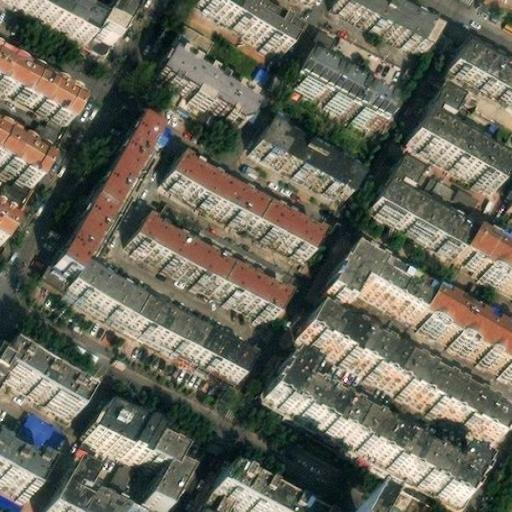building: (265, 353, 484, 508), (299, 306, 506, 443), (68, 267, 247, 380), (52, 114, 157, 277), (128, 218, 284, 319), (166, 158, 316, 257), (405, 90, 509, 188), (366, 162, 467, 258), (291, 58, 397, 136), (156, 46, 254, 128), (328, 246, 436, 318), (248, 119, 353, 192), (421, 290, 512, 371), (334, 0, 435, 59), (199, 0, 300, 55), (0, 61, 77, 130), (443, 43, 512, 107), (0, 0, 97, 42), (82, 401, 151, 457), (136, 434, 181, 508), (39, 469, 96, 512), (467, 227, 512, 281), (0, 139, 47, 187), (92, 0, 137, 48), (214, 460, 257, 499), (244, 477, 290, 512), (15, 404, 53, 438), (279, 495, 320, 512)
